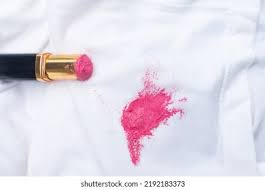kimchi: (119, 84, 176, 163)
